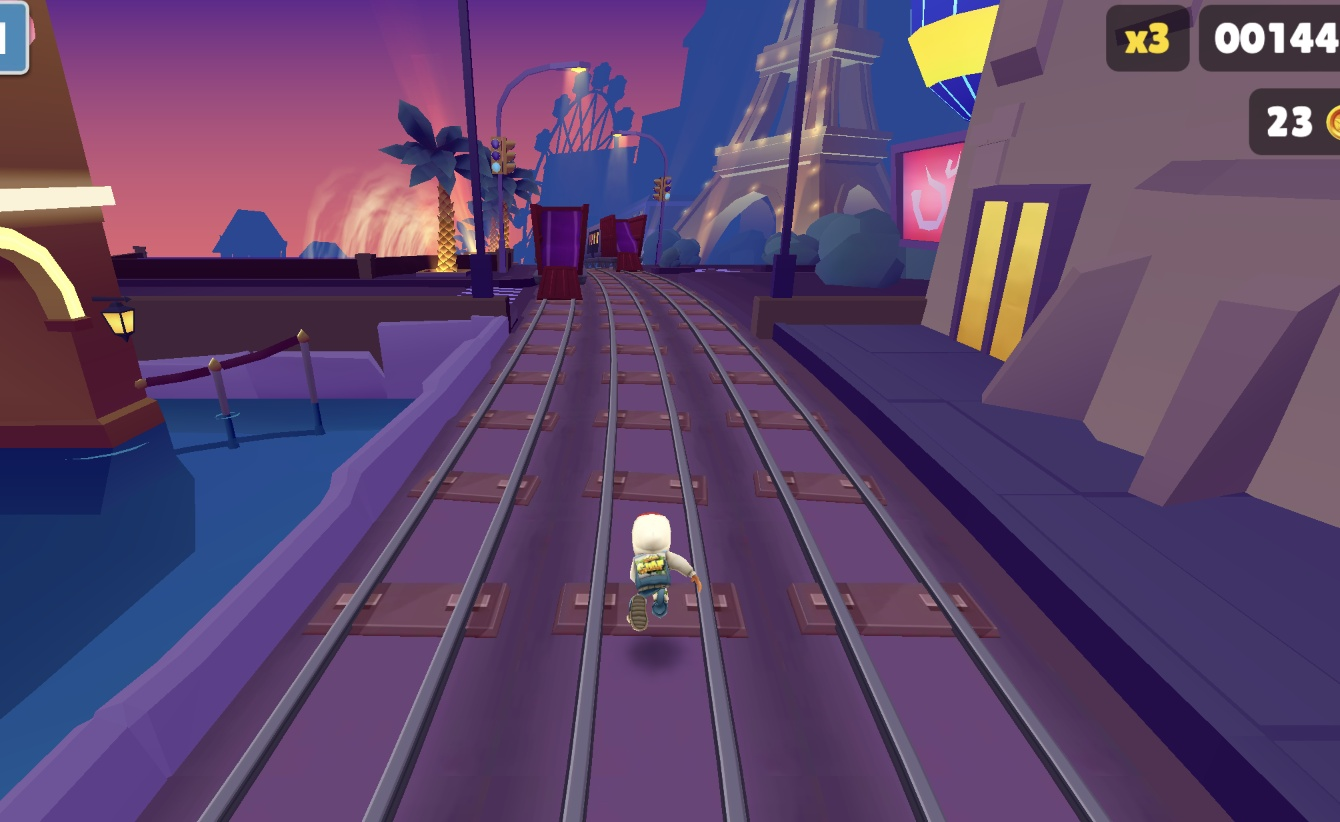train: (532, 201, 589, 301), (585, 212, 647, 272)
